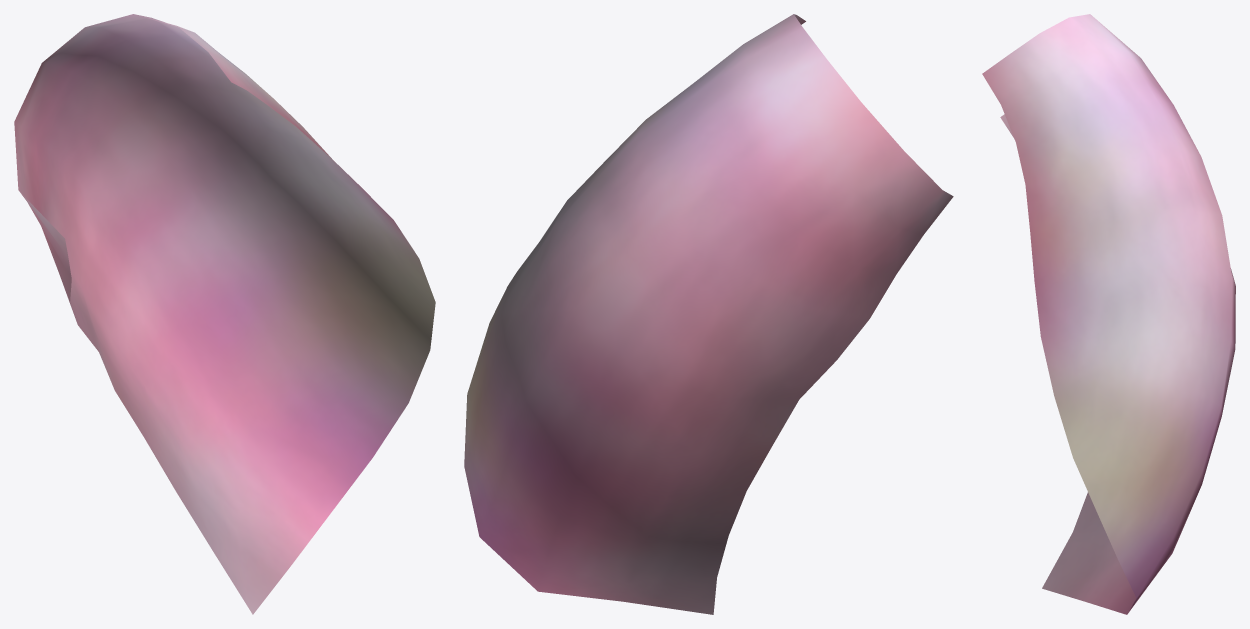
Rendered from caudatehead.obj.
3 views of the same model, side by side, from view 1: azimuth 30°, elevation 25°; view 2: azimuth 150°, elevation 25°; view 3: azimuth 270°, elevation 25° (orthographic). The views are drawn at different scales.
Visible parts, largest first — view 1: caudate:head; view 2: caudate:head; view 3: caudate:head.
Part boxes in pixels (left/top/right/bottom): caudate:head: left=14, top=14, right=435, bottom=614; caudate:head: left=464, top=14, right=953, bottom=614; caudate:head: left=982, top=14, right=1235, bottom=614.
Bounding box in the file's own units: 180 × 240 × 105.
Materials: 1 (1 with a texture image).
